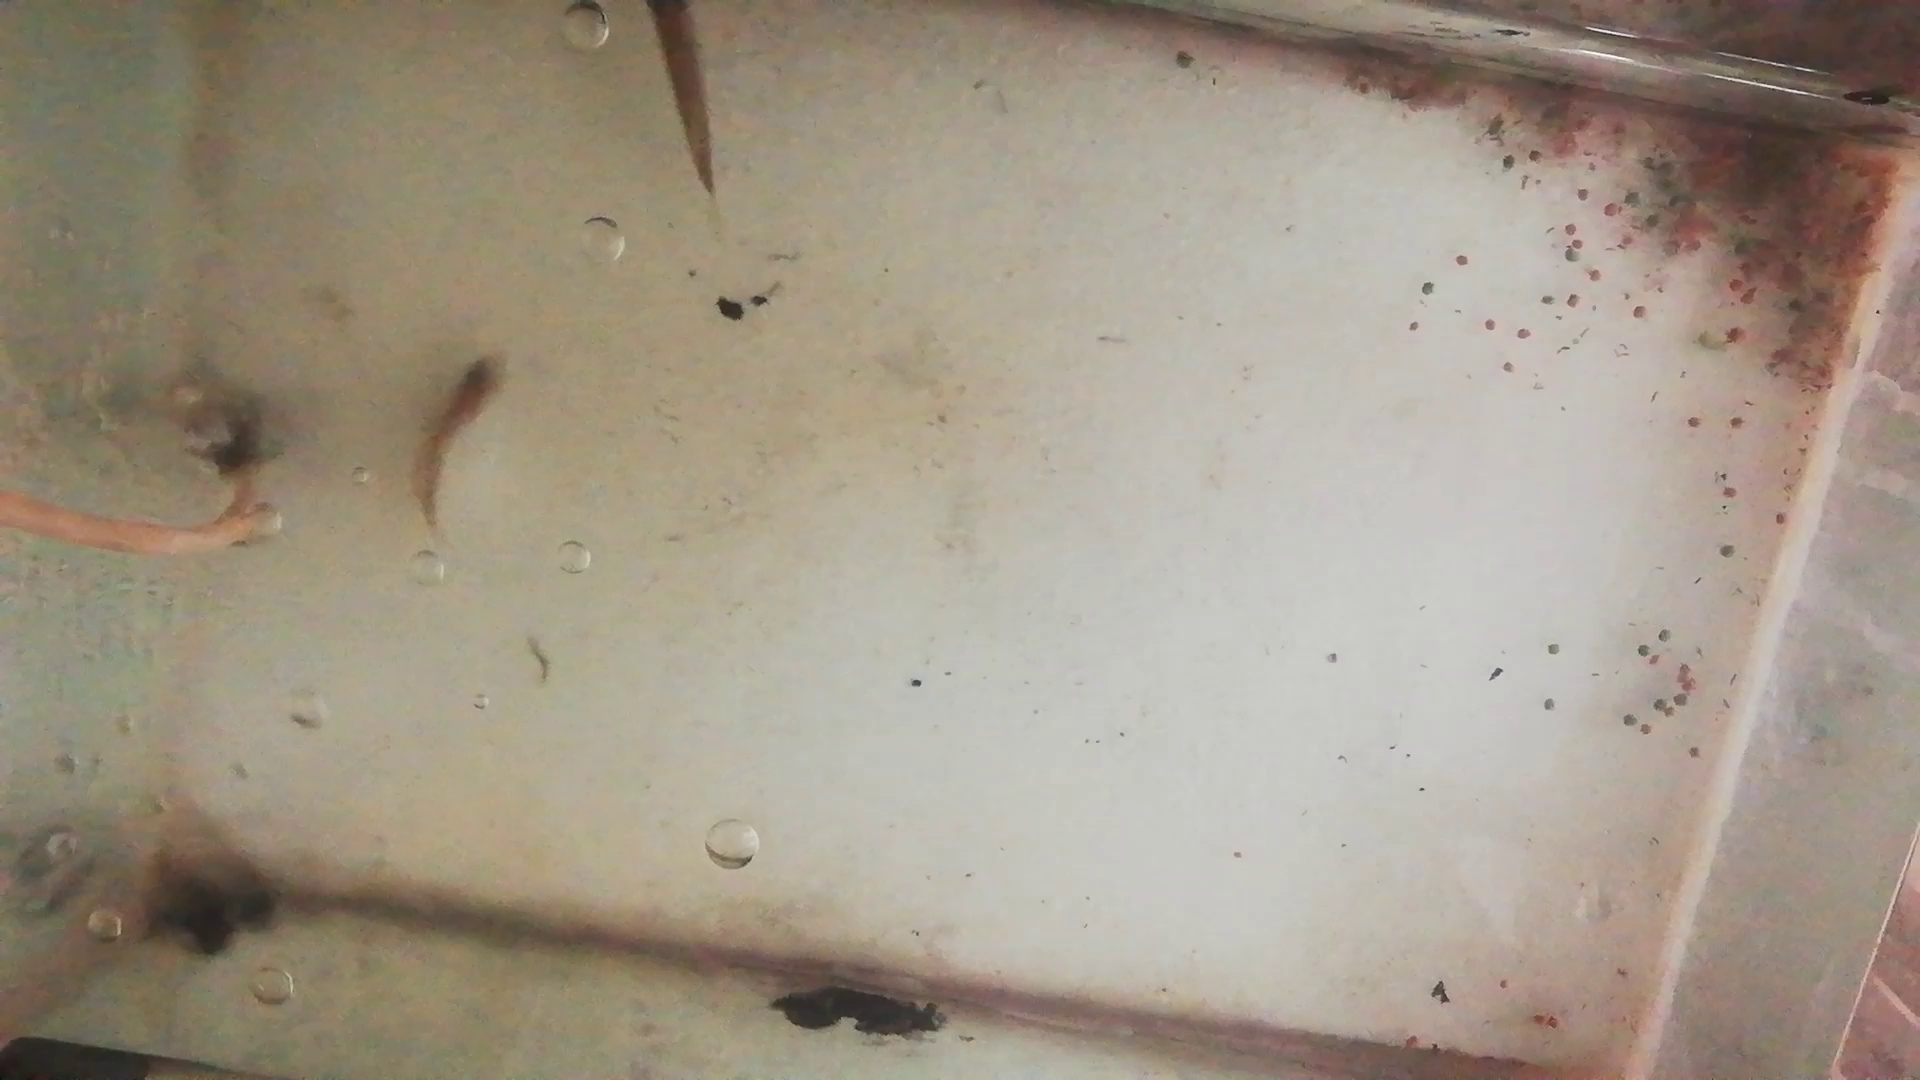fish: (414, 353, 510, 526), (644, 1, 719, 189)
